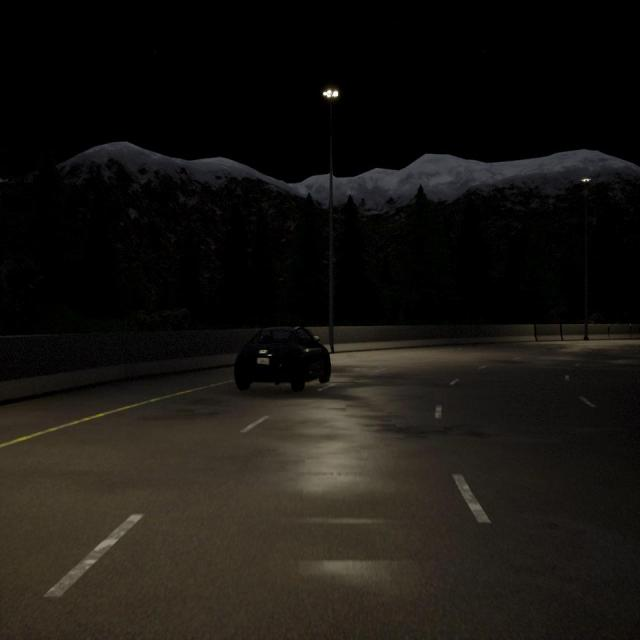Vehicle: (234, 326, 331, 391)
